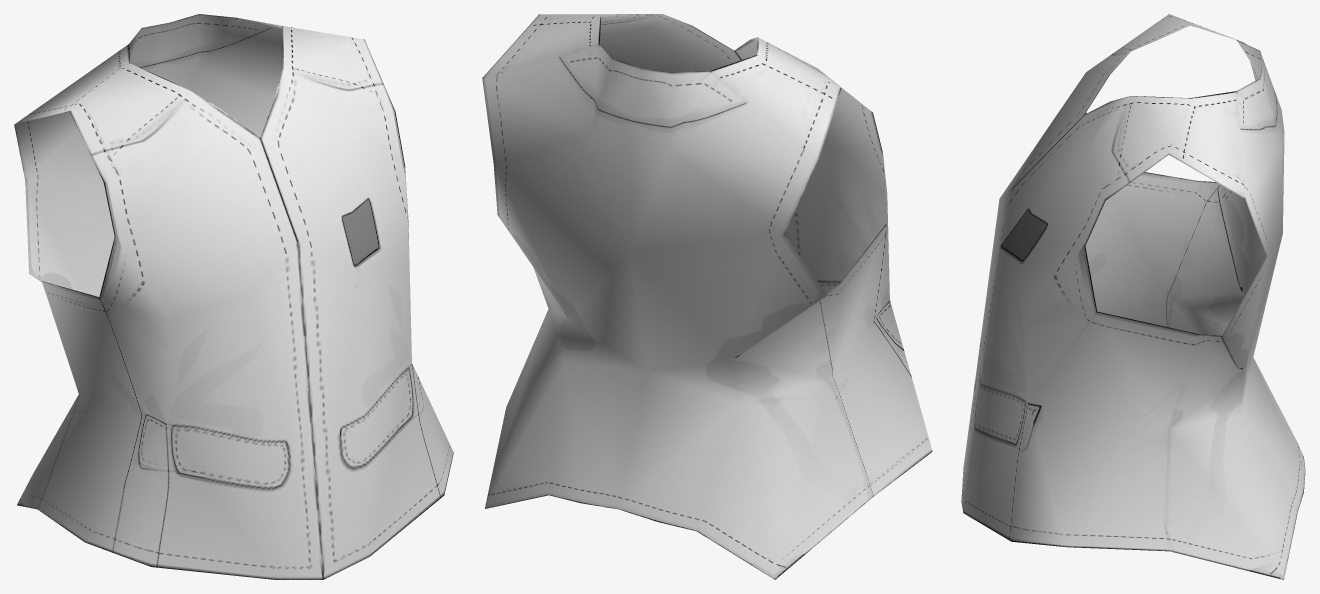
Rendered from PsyfocusVest.glb.
3 renders of one model, left to right at view 1: azimuth 30°, elevation 25°; view 2: azimuth 150°, elevation 25°; view 3: azimuth 270°, elevation 25°, orthographic. The views are drawn at different scales.
Parts seen in each view (by area): view 1: PsyfocusVest; view 2: PsyfocusVest; view 3: PsyfocusVest.
Boxes of the visible parts, bbox=[...] form: PsyfocusVest: bbox=[14, 14, 453, 579]; PsyfocusVest: bbox=[482, 14, 932, 579]; PsyfocusVest: bbox=[961, 14, 1305, 579].
Bounding box in the file's own units: 5.41 × 6.47 × 4.48.
Materials: 1 (1 with a texture image).
